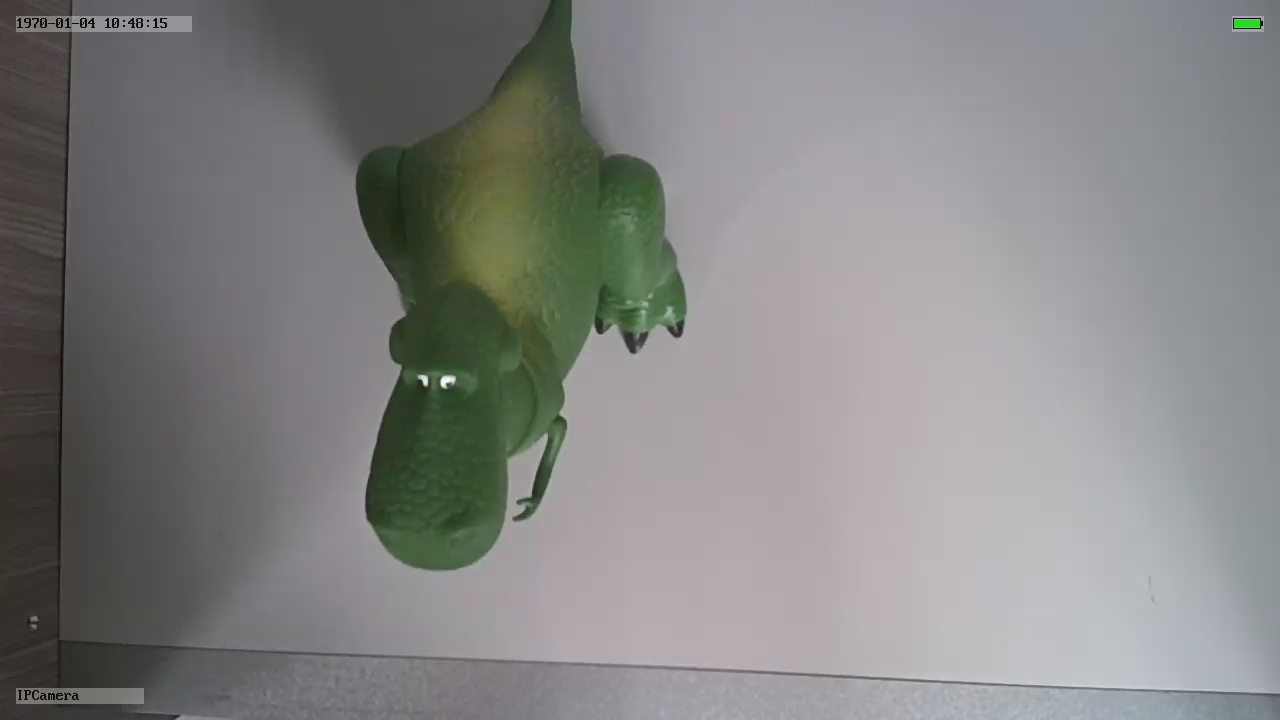rex: (356, 59, 690, 574)
